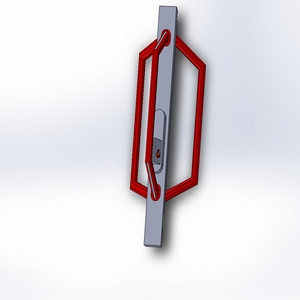submarine: (110, 1, 222, 259)
